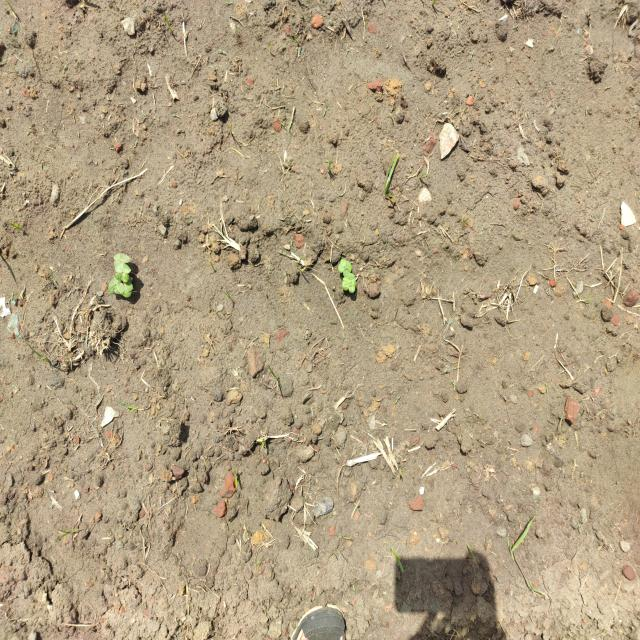seedling: (116, 281, 132, 298), (115, 262, 131, 274), (108, 277, 119, 294), (113, 253, 131, 263), (348, 273, 356, 293), (115, 272, 129, 283), (343, 261, 352, 277), (124, 277, 133, 291), (338, 259, 347, 273), (342, 277, 348, 291)
